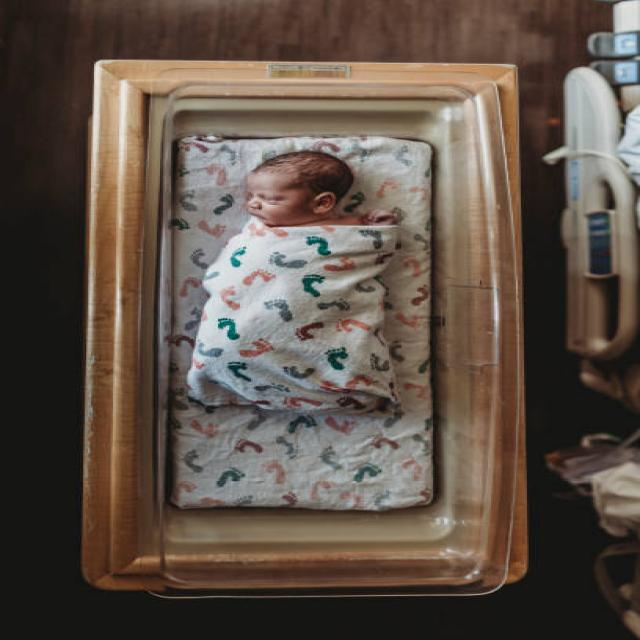crib: (78, 58, 530, 598)
